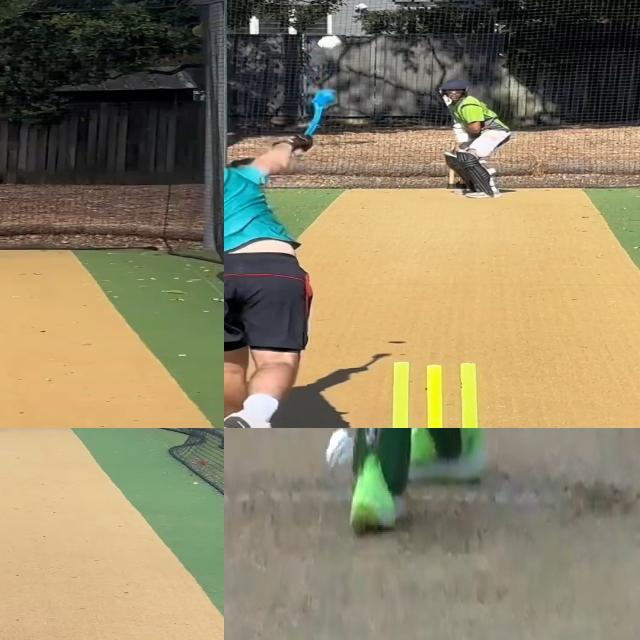Cricket ball: (324, 428, 355, 477), (316, 35, 346, 54)
Stumps: (369, 358, 505, 428)
